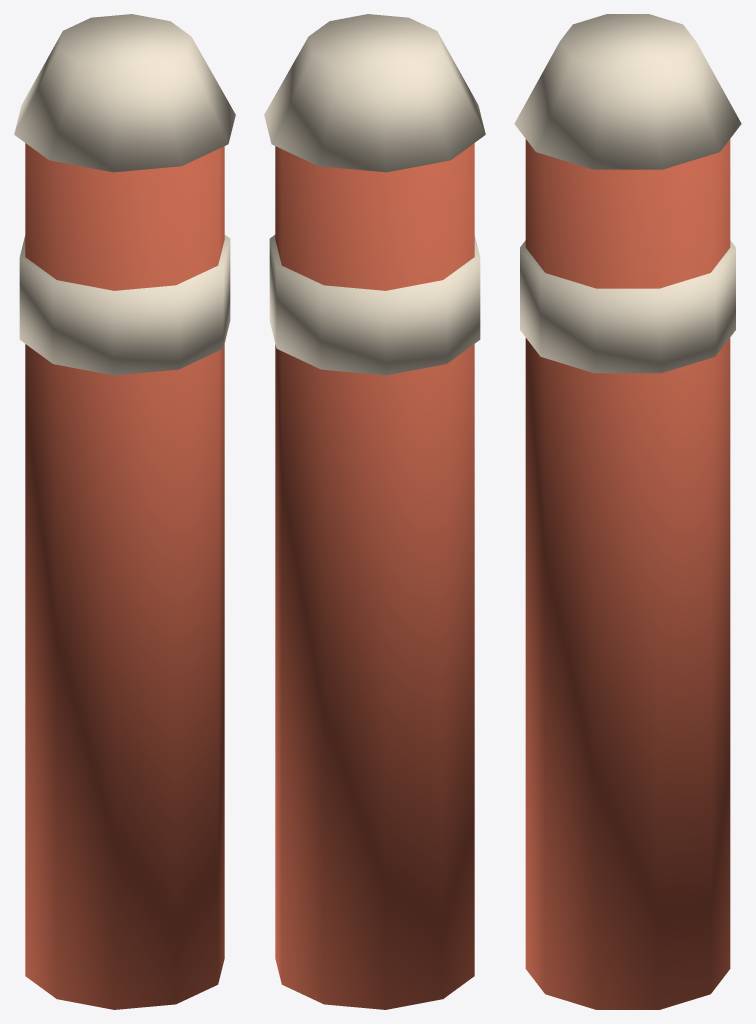
Rendered from oc_bollard_01.glb.
The picture shows the model from 3 angles, left to right: view 1: azimuth 30°, elevation 25°; view 2: azimuth 150°, elevation 25°; view 3: azimuth 270°, elevation 25°; orthographic projection.
Visible parts, largest first — view 1: LOD1_OC_Coral, LOD1_OC_Stucco_Ivory; view 2: LOD1_OC_Coral, LOD1_OC_Stucco_Ivory; view 3: LOD1_OC_Coral, LOD1_OC_Stucco_Ivory.
Boxes of the visible parts, left/top/right/bottom form: LOD1_OC_Coral: left=25, top=143, right=224, bottom=1009; LOD1_OC_Stucco_Ivory: left=14, top=14, right=235, bottom=375; LOD1_OC_Coral: left=275, top=143, right=474, bottom=1009; LOD1_OC_Stucco_Ivory: left=264, top=14, right=485, bottom=375; LOD1_OC_Coral: left=525, top=139, right=730, bottom=1009; LOD1_OC_Stucco_Ivory: left=514, top=14, right=741, bottom=373.
Bounding box in the file's own units: 0.1902 × 0.9 × 0.2.
